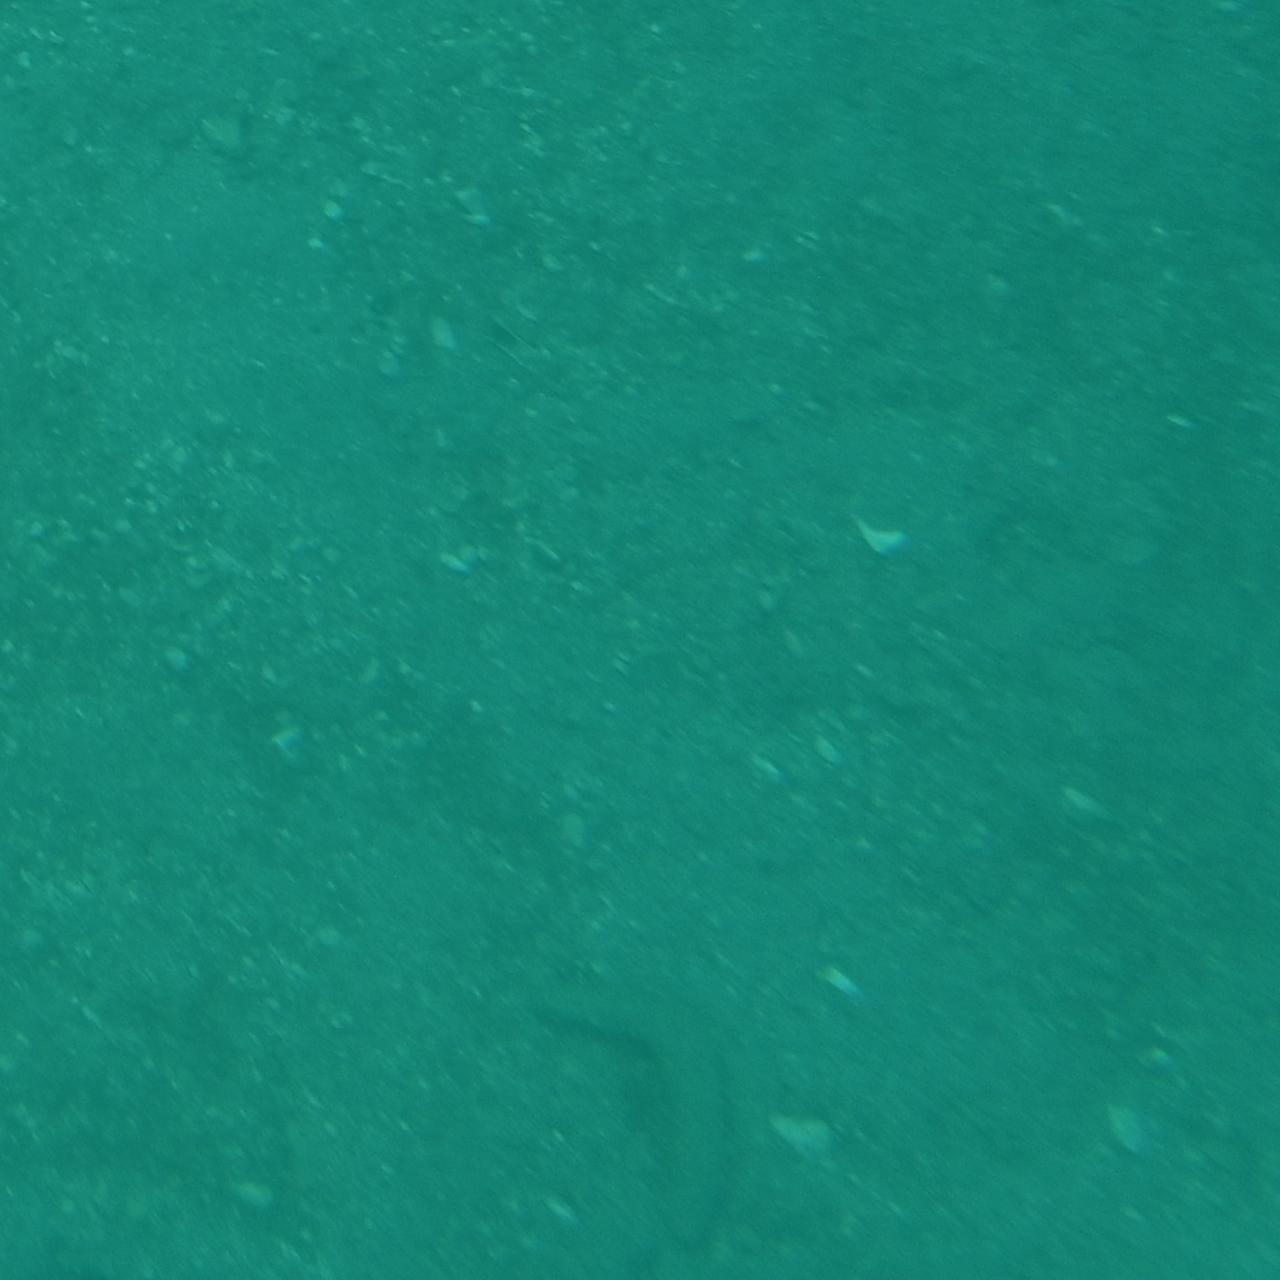Holothuria tubulosa: (553, 971, 727, 1268)
